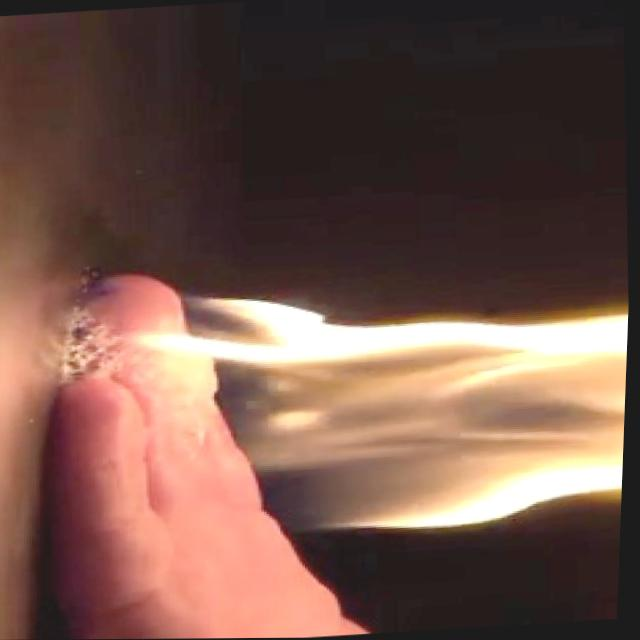Fire: (116, 275, 632, 559)
